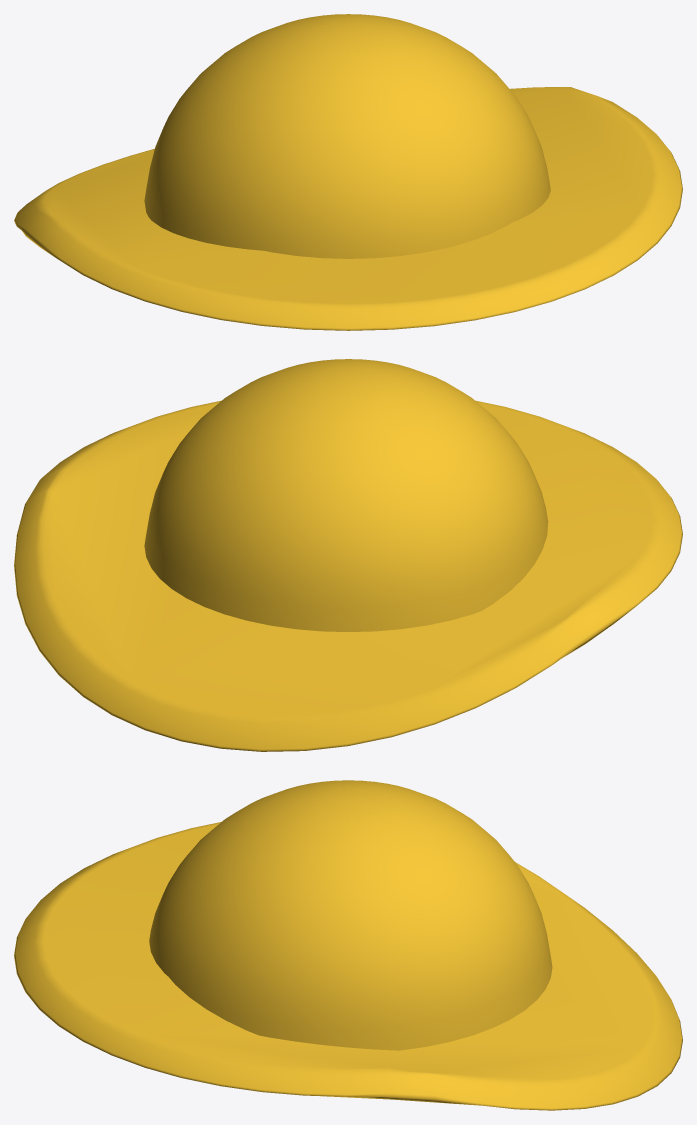
Rendered from sou.glb.
3 renders of one model, top to bottom at view 1: azimuth 30°, elevation 25°; view 2: azimuth 150°, elevation 25°; view 3: azimuth 270°, elevation 25°, orthographic.
Parts seen in each view (by area): view 1: crown, brim; view 2: brim, crown; view 3: crown, brim.
Part boxes in pixels (x1,y1,x2,y2): crown: [144, 14, 550, 258]; brim: [14, 87, 682, 330]; brim: [14, 400, 682, 751]; crown: [144, 359, 548, 632]; crown: [149, 780, 552, 1050]; brim: [14, 822, 682, 1110].
Bounding box in the file's own units: 1.94 × 0.7731 × 1.94.
